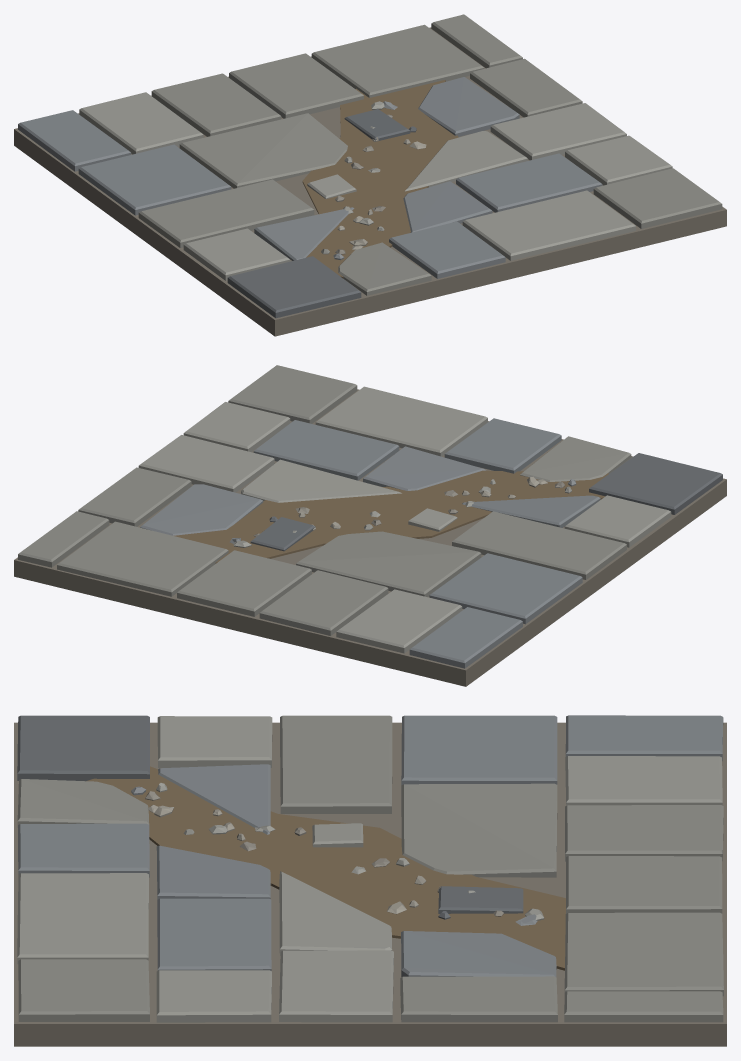
The model's file is SM_LPD_Floor_PavingCracked_01.fbx.
The picture shows the model from 3 angles, top to bottom: view 1: azimuth 30°, elevation 25°; view 2: azimuth 150°, elevation 25°; view 3: azimuth 270°, elevation 25°; orthographic projection. The views are drawn at different scales.
Visible parts, largest first — view 1: SM_LPD_Floor_PavingCracked_01; view 2: SM_LPD_Floor_PavingCracked_01; view 3: SM_LPD_Floor_PavingCracked_01.
Boxes of the visible parts, x1,y1,x2,y2 form: SM_LPD_Floor_PavingCracked_01: (14,14,726,336); SM_LPD_Floor_PavingCracked_01: (14,365,726,686); SM_LPD_Floor_PavingCracked_01: (14,715,726,1046).
Size of the model in its own units: 4 by 0.2 by 4.
